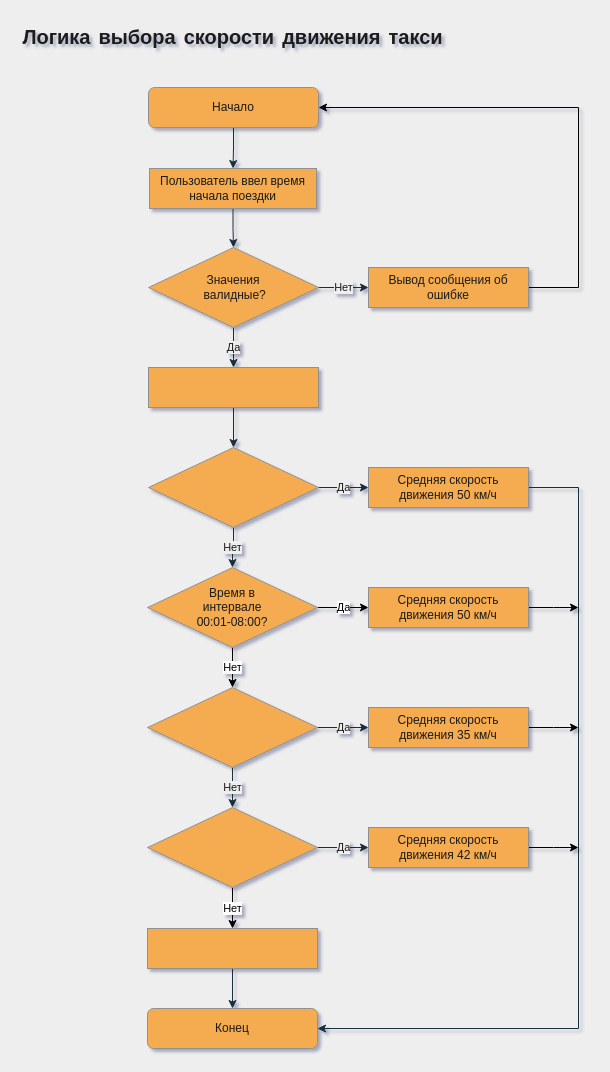
The diagram is 610 pixels wide and 1072 high, and some of its shapes have lost their labels. The shapes that lost their labels are listed below. From the top down, each one's box as (x1, y1, x2, y2) in pixels, then its label:
(148, 366, 318, 408): Проверка принадлежности к временному интервалу
(148, 446, 318, 528): Время в интервале 22:01-00:00?
(146, 686, 318, 768): Время в интервале 08:01-12:00?
(146, 806, 318, 888): Время в интервале 12:01-18:00?
(146, 928, 318, 968): Средняя скорость движения 30 км/ч
